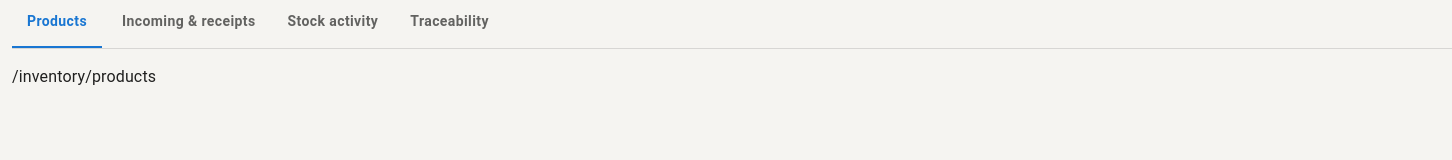
it: Products workspace navigation › opens incoming supply and receipts as a separate Products screen
Click the tab "Incoming & receipts" at (189, 21), box [122, 13, 256, 29]
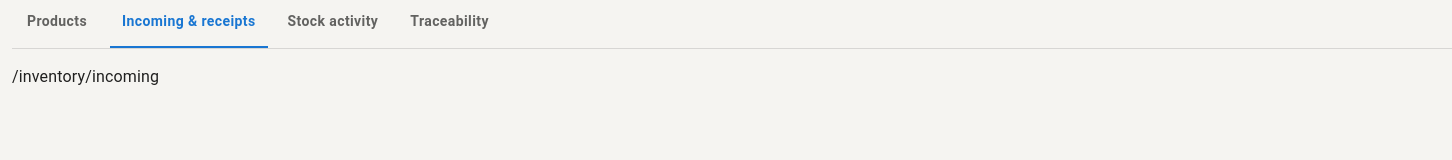
Expected: the text named "location" reads "/inventory/incoming", [12, 67, 159, 86]
